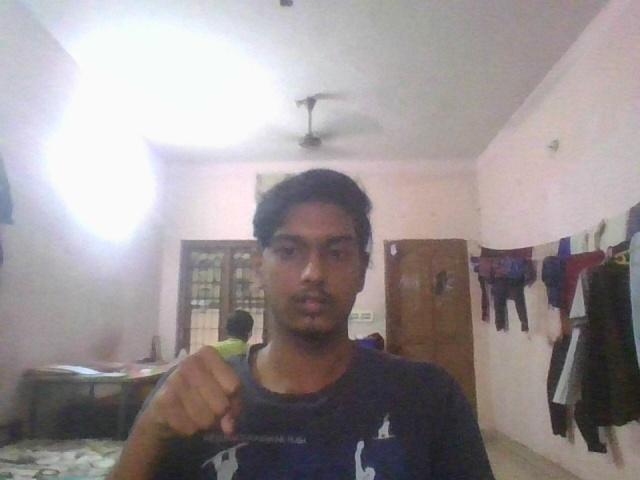yes: (135, 341, 255, 452)
